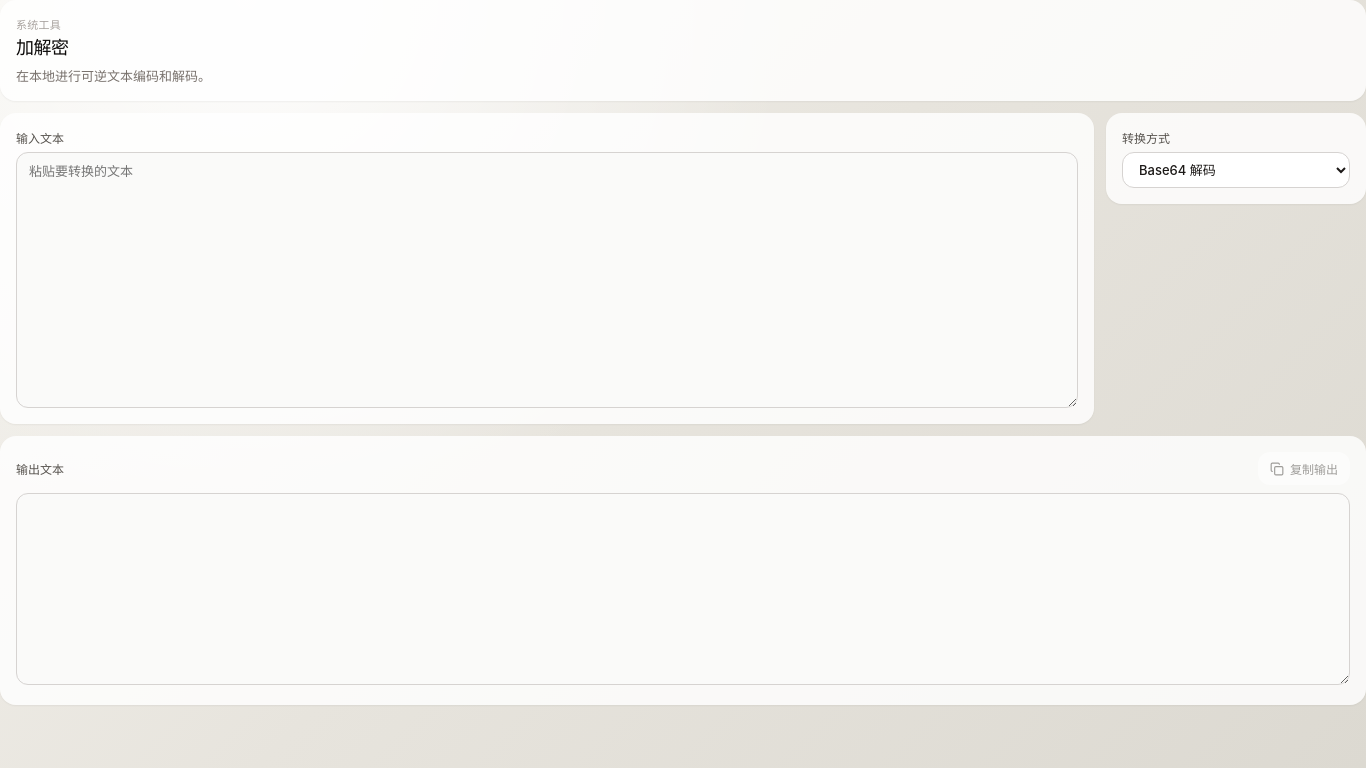
CryptoToolsScreen › shows a validation error for invalid hex input
Select "Hex 解码" in the dropdown labelled "转换方式": (1236, 170) [1122,152,1350,188]
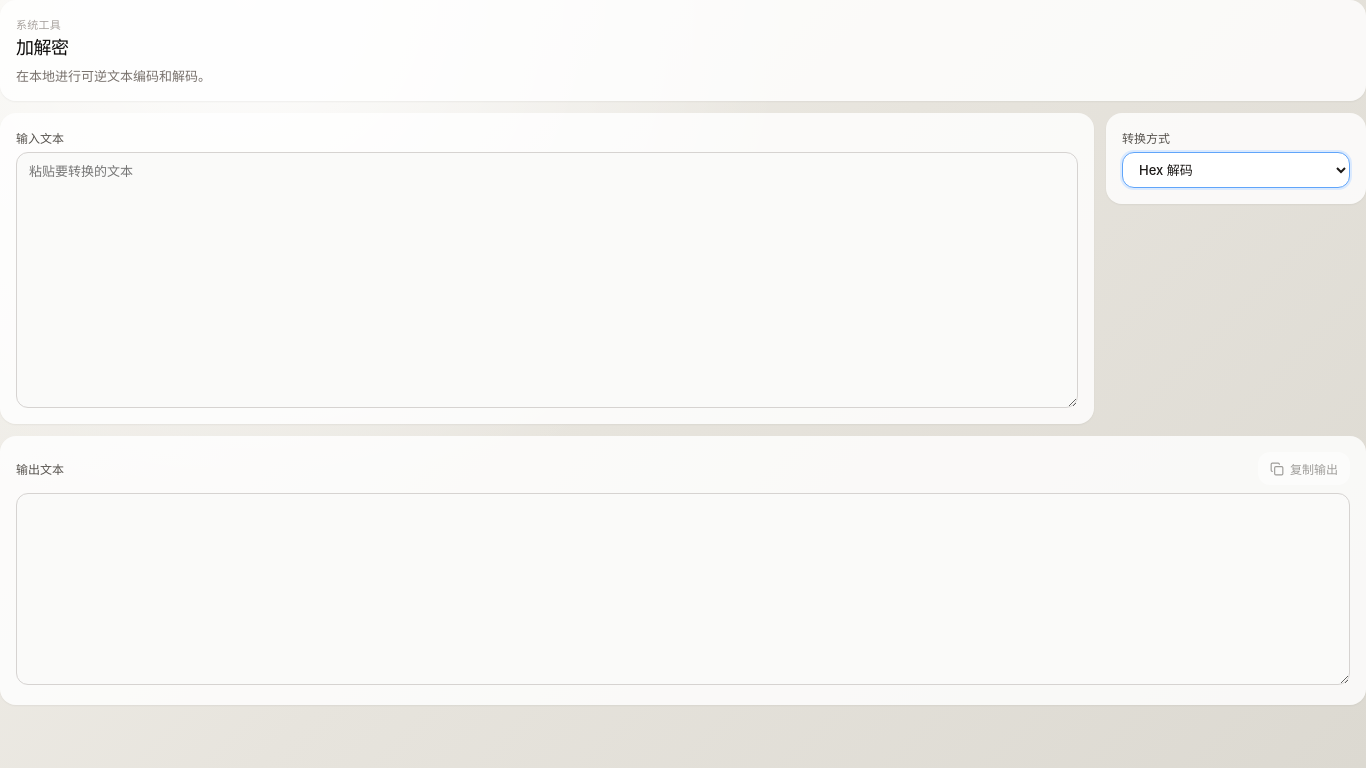
In the text box labelled "输入文本": (547, 280) [16,152,1078,408], type "abc"
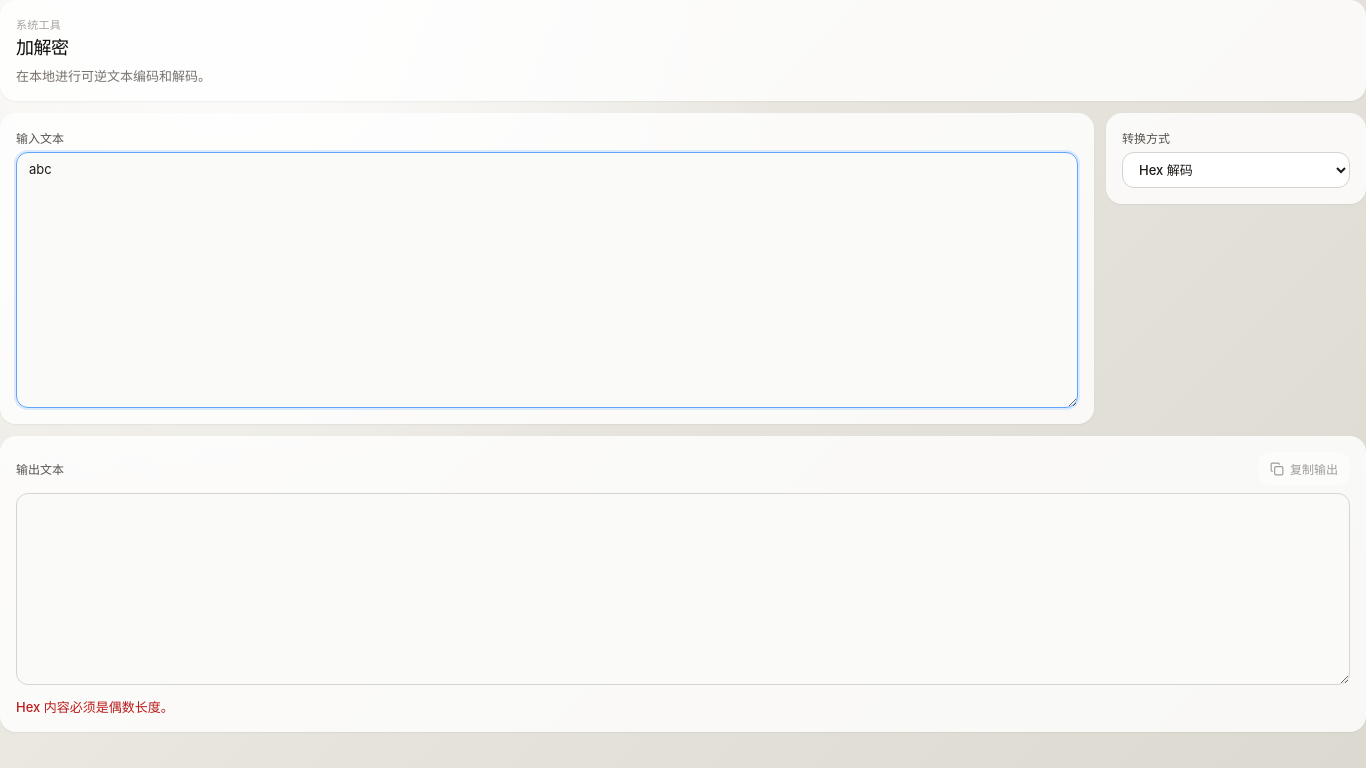
Expected: the text box labelled "输出文本" is empty, [16,493,1350,685]
Expected: the text "Hex 内容必须是偶数长度。" is shown, [16,699,174,715]
